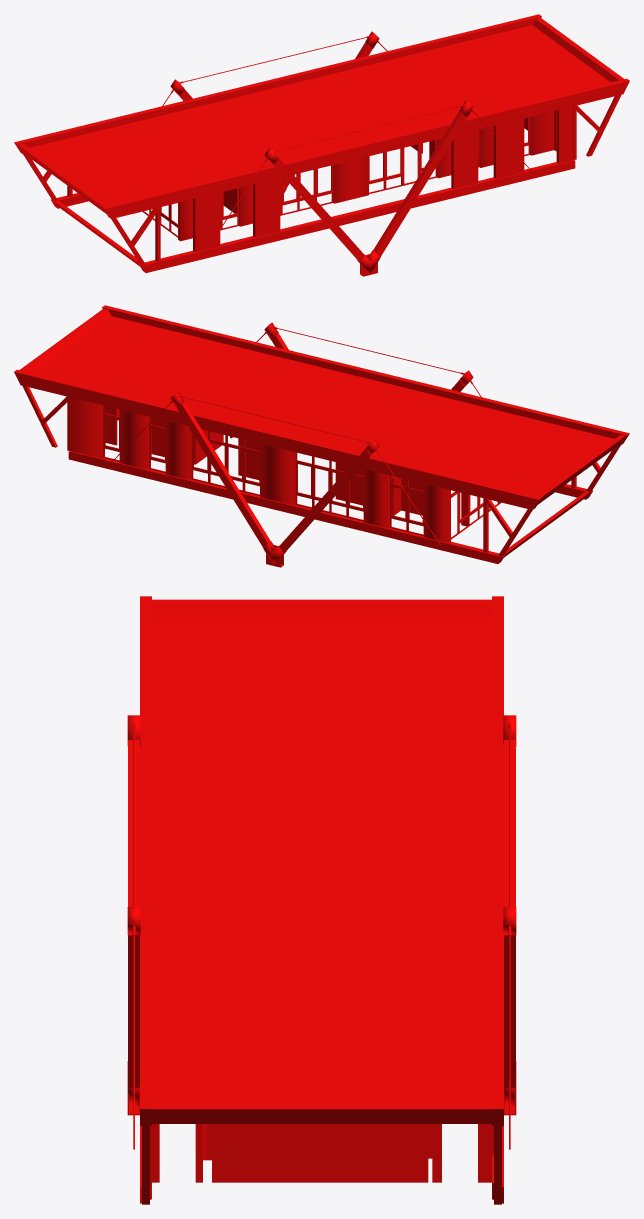
Rendered from House_Shadow.FBX.
3 renders of one model, top to bottom at view 1: azimuth 30°, elevation 25°; view 2: azimuth 150°, elevation 25°; view 3: azimuth 270°, elevation 25°, orthographic. The views are drawn at different scales.
Parts seen in each view (by area): view 1: Concrete_Top, Metal_Pillars, Box3263, Wood_Exterior, Object275, Frames (×2), Metal_Joint, Metal_Cables, Ceiling_Interior; view 2: Concrete_Top, Metal_Pillars, Wood_Exterior, Frames (×5), Ceiling_Interior, Object275, Metal_Joint, Metal_Cables; view 3: Concrete_Top, Metal_Pillars, Ceiling_Interior, Metal_Joint, Metal_Cables, Object275.
Part boxes in pixels (box(x1,y1,x2,y2)): Concrete_Top: box(29, 25, 610, 205); Metal_Pillars: box(14, 14, 629, 272); Box3263: box(193, 106, 572, 252); Wood_Exterior: box(178, 111, 554, 241); Object275: box(23, 94, 621, 265); Frames (×2): box(280, 140, 437, 215); Metal_Joint: box(170, 31, 473, 276); Metal_Cables: box(162, 37, 534, 253); Ceiling_Interior: box(223, 110, 556, 213); Concrete_Top: box(33, 316, 614, 496); Metal_Pillars: box(14, 305, 629, 563); Wood_Exterior: box(71, 397, 450, 543); Frames (×5): box(103, 405, 501, 539); Ceiling_Interior: box(105, 406, 467, 541); Object275: box(22, 385, 620, 556); Metal_Joint: box(170, 322, 473, 567); Metal_Cables: box(109, 328, 481, 544); Concrete_Top: box(152, 618, 491, 1104); Metal_Pillars: box(128, 596, 515, 1203); Ceiling_Interior: box(152, 1124, 493, 1182); Metal_Joint: box(127, 715, 516, 1115); Metal_Cables: box(133, 727, 510, 1149); Object275: box(142, 1126, 501, 1204).
Size of the model in its own units: 3033 by 820 by 972.
